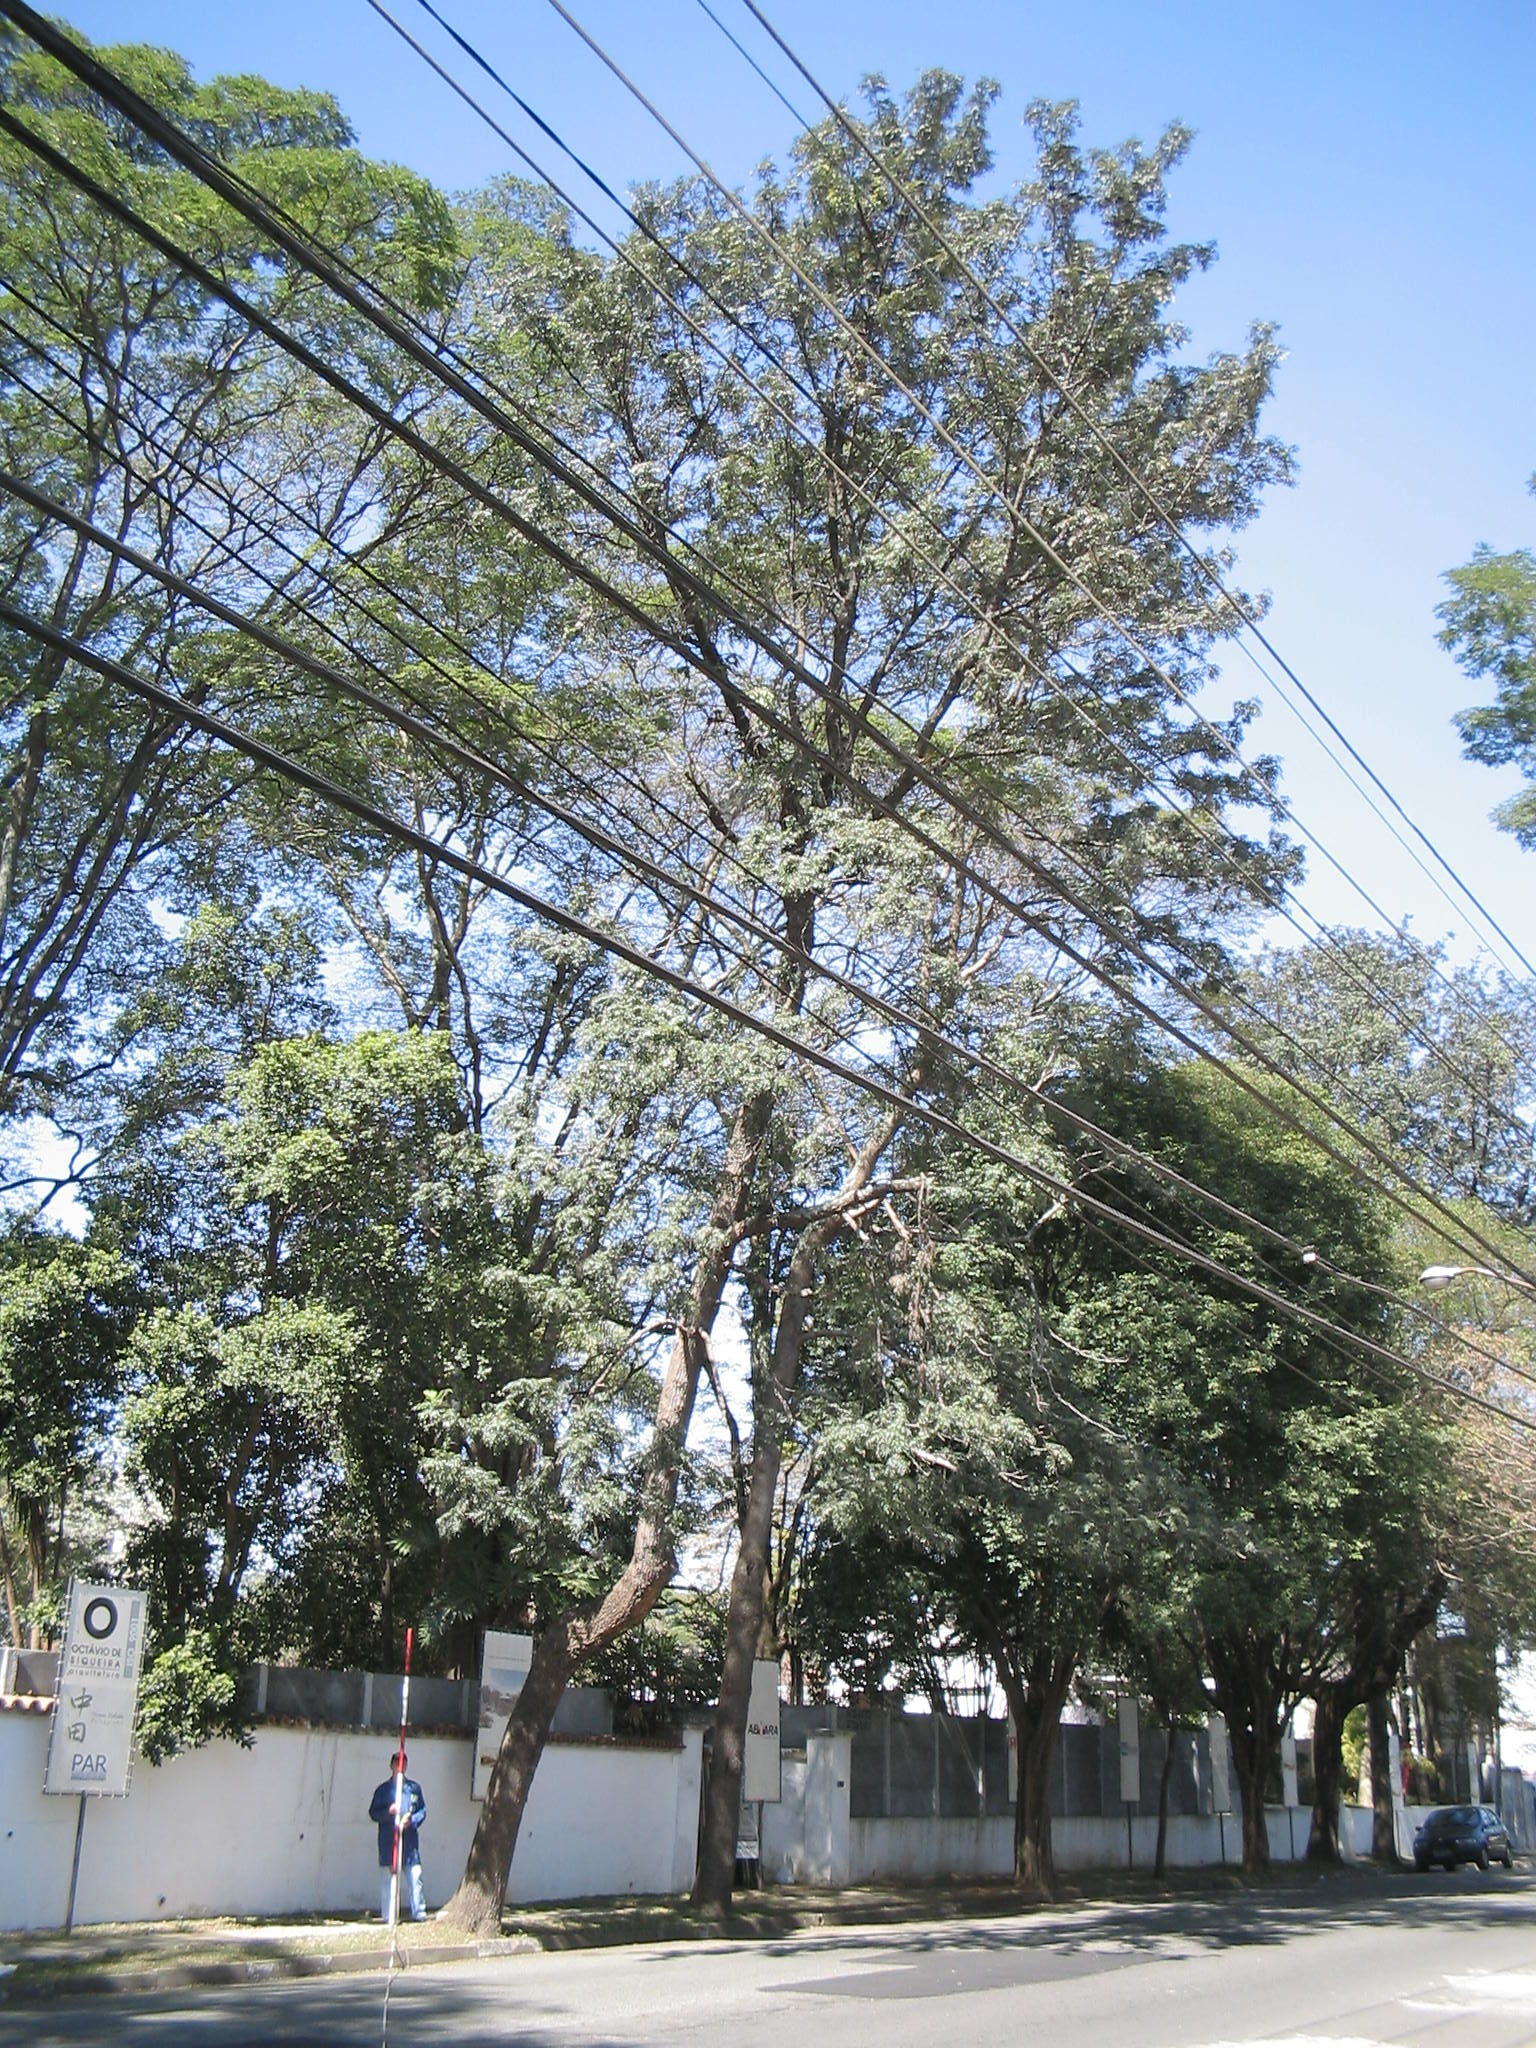crown: (111, 69, 1292, 1496)
stem: (428, 1648, 600, 1930)
stick: (369, 1617, 421, 1930)
tree: (100, 68, 1300, 1935)
